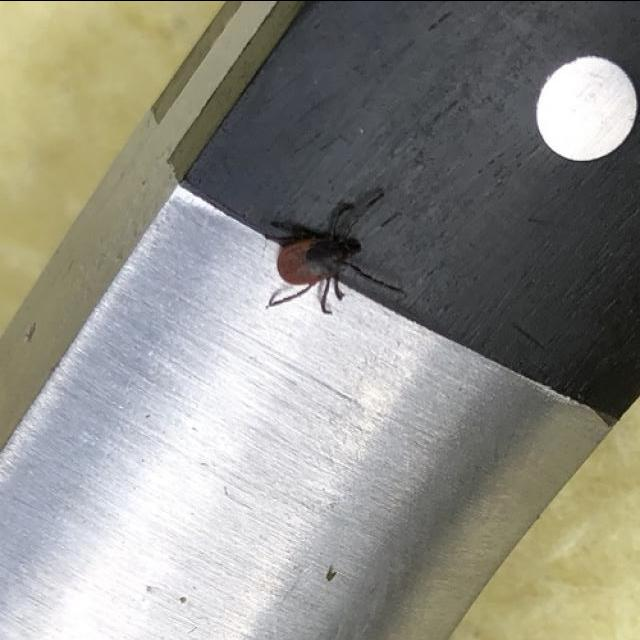Ixodes Ricinus-F: (264, 189, 404, 315)
